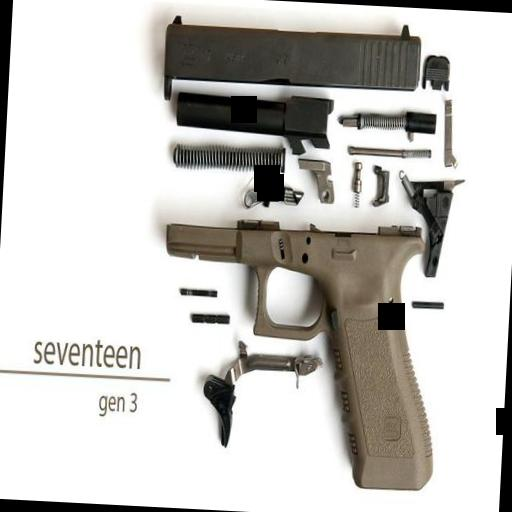Handgun: (128, 8, 477, 512)
